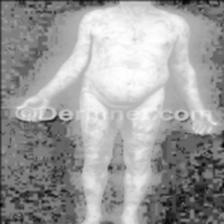Potentially Malignant Skin Tumors: (137, 18, 175, 34), (89, 132, 109, 152), (128, 130, 147, 150), (86, 14, 108, 26), (76, 40, 89, 54), (121, 60, 141, 69)
